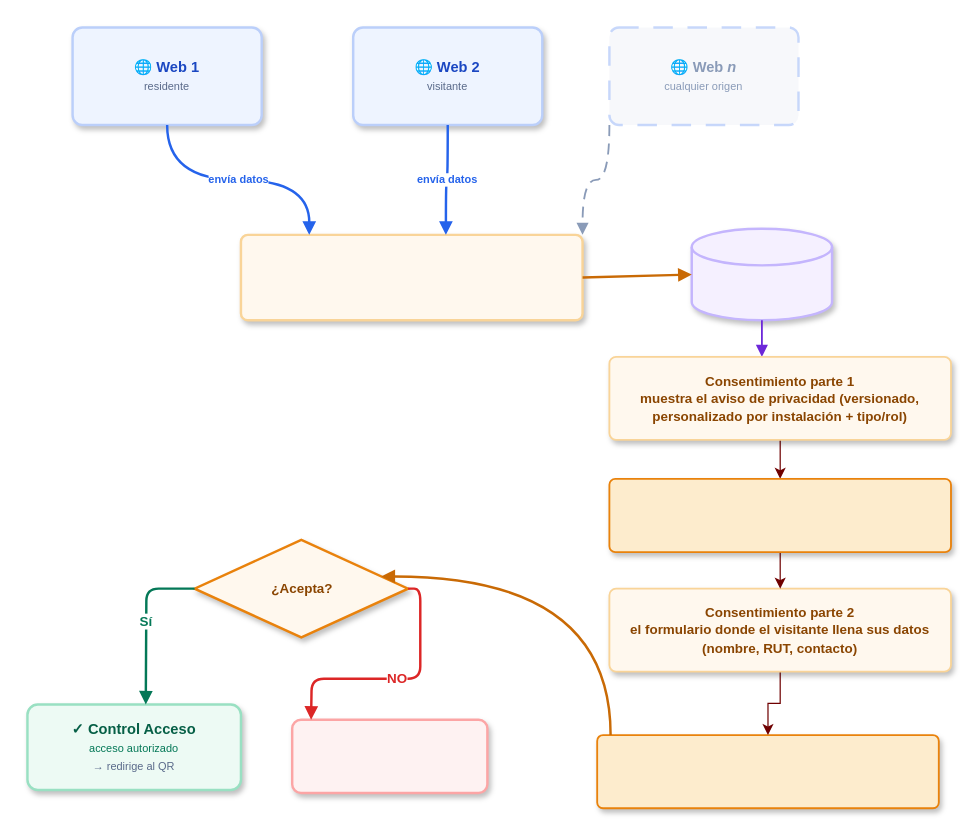
The diagram is 980 pixels wide and 838 high, and some of its shapes have lost their labels. The shapes that lost their labels are listed below. From the top down, each one's centre as x and y in pixels, then its label:
At (x=412, y=278): "⚡ Consent API api.clickvisitas.cl · multi-tenant · versionado".
At (x=781, y=517): "HTML -Datos requeridos".
At (x=390, y=757): "✗ Rechaza -Rechazo -Mail".
At (x=768, y=773): "Formulario nombre · RUT · contacto · uid agenda".
